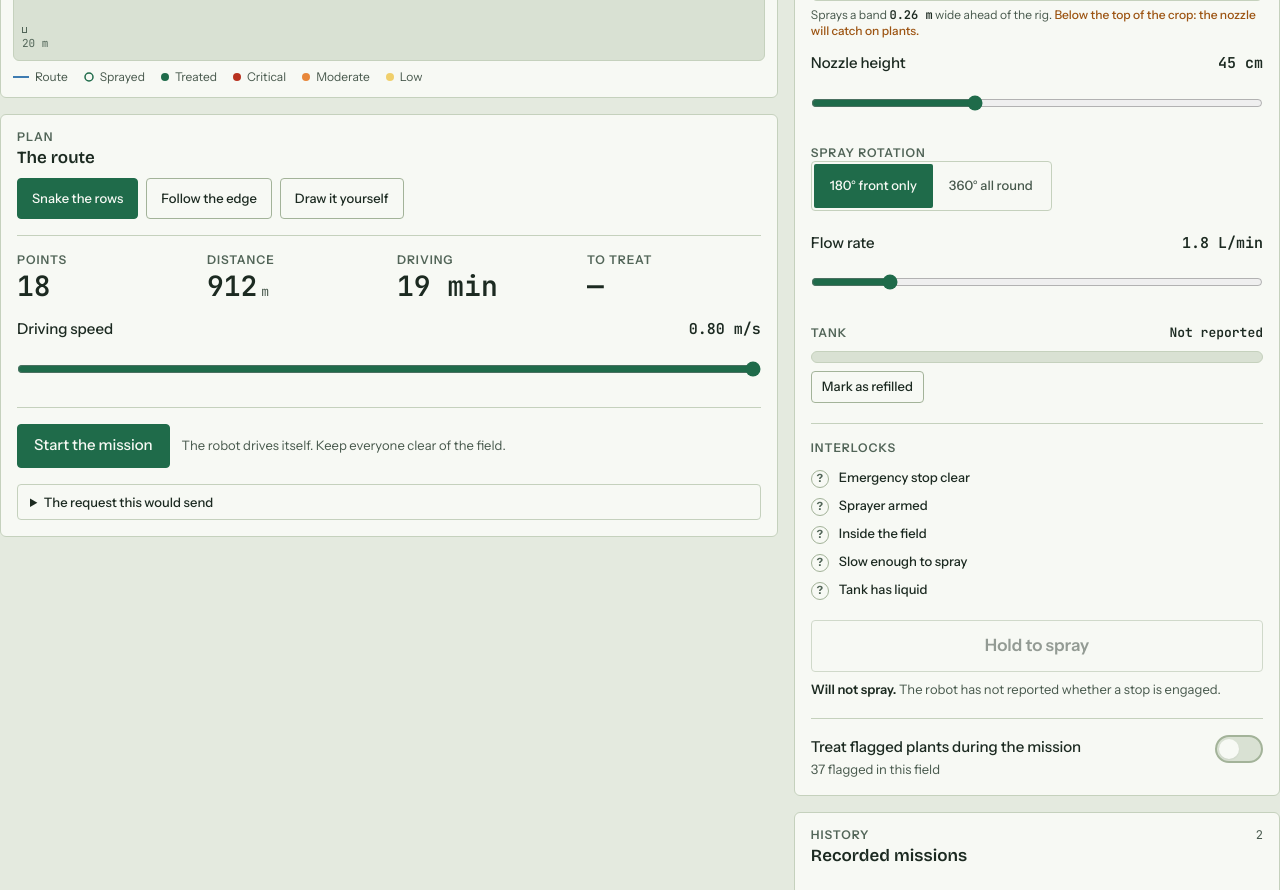
Scenario: MissionWorkspace › refuses to start a mission it cannot send
The image size is (1280, 890).
(page scrolled)
Click the button "Start the mission" at (93, 446), box [17,424,170,468]
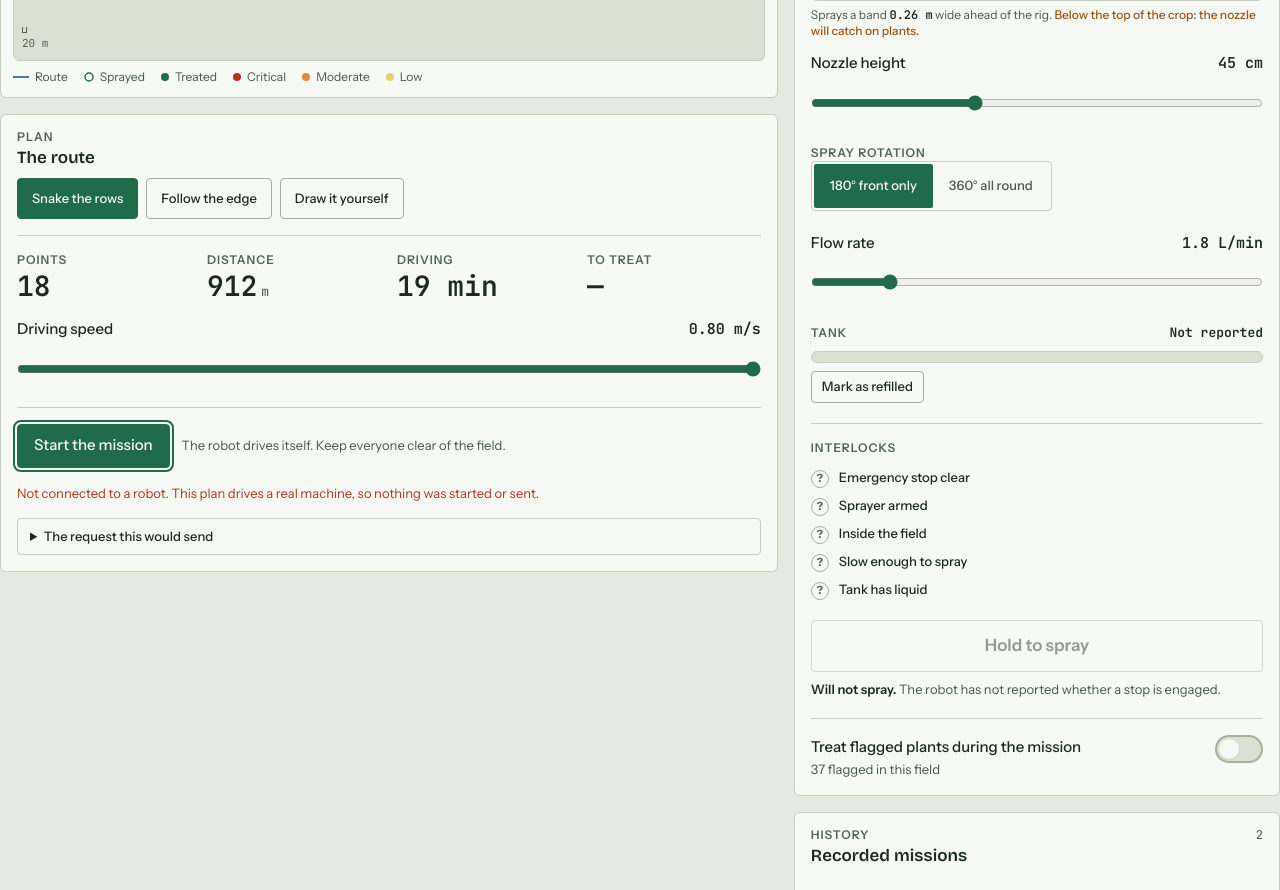
Result: the 1st message shows "nothing was started or sent" at [17,485,539,501]
